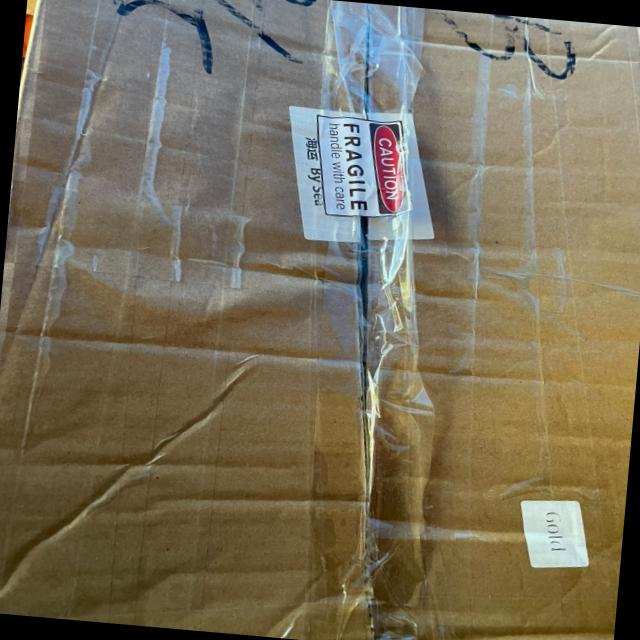carton_box: (0, 0, 640, 640)
fragile_label: (300, 100, 435, 233)
package_damage: (285, 217, 473, 640)
